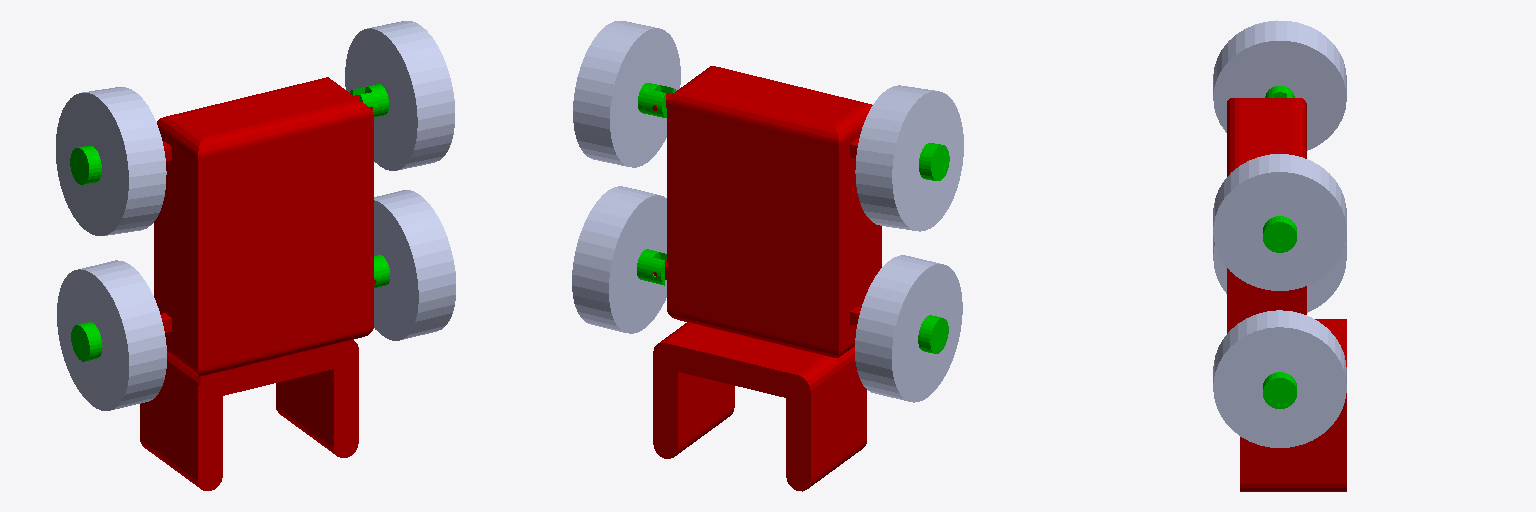
robot.urdf — RobotModel3:
<?xml version="1.0" encoding="utf-8"?>
<!-- This URDF was automatically created by SolidWorks to URDF Exporter! Originally created by [author] ([email redacted]) 
     Commit Version: 1.6.0-4-g7f85cfe  Build Version: 1.6.7995.38578
     For more information, please see http://wiki.ros.org/sw_urdf_exporter -->
<robot
  name="RobotModel3">
  <link
    name="base_link">
    <inertial>
      <origin
        xyz="-0.0046437 -0.0878 -0.0086142"
        rpy="0 0 0" />
      <mass
        value="0.24034" />
      <inertia
        ixx="0.00014847"
        ixy="-3.2844E-21"
        ixz="5.9288E-10"
        iyy="0.00023298"
        iyz="1.2393E-06"
        izz="0.00012686" />
    </inertial>
    <visual>
      <origin
        xyz="0 0 0"
        rpy="0 0 0" />
      <geometry>
        <mesh
          filename="package://RobotModel3/meshes/base_link.STL" />
      </geometry>
      <material
        name="">
        <color
          rgba="0.79216 0 0 1" />
      </material>
    </visual>
    <collision>
      <origin
        xyz="0 0 0"
        rpy="0 0 0" />
      <geometry>
        <mesh
          filename="package://RobotModel3/meshes/base_link.STL" />
      </geometry>
    </collision>
  </link>
  <link
    name="front_right_axis">
    <inertial>
      <origin
        xyz="6.9855E-09 0.012857 9.7028E-10"
        rpy="0 0 0" />
      <mass
        value="0.0027556" />
      <inertia
        ixx="2.1023E-07"
        ixy="-2.8117E-13"
        ixz="-1.3895E-15"
        iyy="4.6607E-08"
        iyz="-3.8723E-14"
        izz="2.0857E-07" />
    </inertial>
    <visual>
      <origin
        xyz="0 0 0"
        rpy="0 0 0" />
      <geometry>
        <mesh
          filename="package://RobotModel3/meshes/front_right_axis.STL" />
      </geometry>
      <material
        name="">
        <color
          rgba="0 0.81961 0 1" />
      </material>
    </visual>
    <collision>
      <origin
        xyz="0 0 0"
        rpy="0 0 0" />
      <geometry>
        <mesh
          filename="package://RobotModel3/meshes/front_right_axis.STL" />
      </geometry>
    </collision>
  </link>
  <joint
    name="front_right_axis_joint"
    type="revolute">
    <origin
      xyz="-0.074639 -0.085 -0.0251"
      rpy="-1.5708 1.5657 -3.1416" />
    <parent
      link="base_link" />
    <child
      link="front_right_axis" />
    <axis
      xyz="0 0 1" />
    <limit
      lower="-30"
      upper="30"
      effort="0"
      velocity="0" />
  </joint>
  <link
    name="front_right_wheel">
    <inertial>
      <origin
        xyz="-2.7756E-17 3.4694E-17 0.0075"
        rpy="0 0 0" />
      <mass
        value="0.028027" />
      <inertia
        ixx="5.1167E-06"
        ixy="-4.2352E-22"
        ixz="-6.2865E-22"
        iyy="5.1167E-06"
        iyz="6.8463E-22"
        izz="9.1823E-06" />
    </inertial>
    <visual>
      <origin
        xyz="0 0 0"
        rpy="0 0 0" />
      <geometry>
        <mesh
          filename="package://RobotModel3/meshes/front_right_wheel.STL" />
      </geometry>
      <material
        name="">
        <color
          rgba="0.79216 0.81961 0.93333 1" />
      </material>
    </visual>
    <collision>
      <origin
        xyz="0 0 0"
        rpy="0 0 0" />
      <geometry>
        <mesh
          filename="package://RobotModel3/meshes/front_right_wheel.STL" />
      </geometry>
    </collision>
  </link>
  <joint
    name="front_right_wheel_joint"
    type="continuous">
    <origin
      xyz="0 0.0200000000000002 0"
      rpy="-1.5707963267949 0.957928750927918 3.14159265358979" />
    <parent
      link="front_right_axis" />
    <child
      link="front_right_wheel" />
    <axis
      xyz="0 0 -1" />
  </joint>
  <link
    name="front_left_axis">
    <inertial>
      <origin
        xyz="7.001E-09 0.012857 9.6898E-10"
        rpy="0 0 0" />
      <mass
        value="0.0027556" />
      <inertia
        ixx="2.1023E-07"
        ixy="-2.8153E-13"
        ixz="-1.4543E-15"
        iyy="4.6607E-08"
        iyz="-3.8687E-14"
        izz="2.0857E-07" />
    </inertial>
    <visual>
      <origin
        xyz="0 0 0"
        rpy="0 0 0" />
      <geometry>
        <mesh
          filename="package://RobotModel3/meshes/front_left_axis.STL" />
      </geometry>
      <material
        name="">
        <color
          rgba="0 0.81961 0 1" />
      </material>
    </visual>
    <collision>
      <origin
        xyz="0 0 0"
        rpy="0 0 0" />
      <geometry>
        <mesh
          filename="package://RobotModel3/meshes/front_left_axis.STL" />
      </geometry>
    </collision>
  </link>
  <joint
    name="front_left_axis_joint"
    type="revolute">
    <origin
      xyz="0.06536 -0.085 -0.025237"
      rpy="1.5708 -1.5708 0" />
    <parent
      link="base_link" />
    <child
      link="front_left_axis" />
    <axis
      xyz="0 0 1" />
    <limit
      lower="-30"
      upper="30"
      effort="0"
      velocity="0" />
  </joint>
  <link
    name="front_left_wheel">
    <inertial>
      <origin
        xyz="1.3878E-17 3.4694E-18 -0.0075"
        rpy="0 0 0" />
      <mass
        value="0.028027" />
      <inertia
        ixx="5.1167E-06"
        ixy="4.2352E-22"
        ixz="1.1346E-22"
        iyy="5.1167E-06"
        iyz="6.1968E-22"
        izz="9.1823E-06" />
    </inertial>
    <visual>
      <origin
        xyz="0 0 0"
        rpy="0 0 0" />
      <geometry>
        <mesh
          filename="package://RobotModel3/meshes/front_left_wheel.STL" />
      </geometry>
      <material
        name="">
        <color
          rgba="0.79216 0.81961 0.93333 1" />
      </material>
    </visual>
    <collision>
      <origin
        xyz="0 0 0"
        rpy="0 0 0" />
      <geometry>
        <mesh
          filename="package://RobotModel3/meshes/front_left_wheel.STL" />
      </geometry>
    </collision>
  </link>
  <joint
    name="front_left_wheel_joint"
    type="continuous">
    <origin
      xyz="0 0.00499999999999998 0"
      rpy="1.5707963267949 1.35583851733874 0" />
    <parent
      link="front_left_axis" />
    <child
      link="front_left_wheel" />
    <axis
      xyz="0 0 1" />
  </joint>
  <link
    name="back_right_axis">
    <inertial>
      <origin
        xyz="0.00017115 0.012858 1.0002E-09"
        rpy="0 0 0" />
      <mass
        value="0.0027556" />
      <inertia
        ixx="2.102E-07"
        ixy="1.9119E-09"
        ixz="-2.1194E-16"
        iyy="4.6629E-08"
        iyz="-3.9661E-14"
        izz="2.0857E-07" />
    </inertial>
    <visual>
      <origin
        xyz="0 0 0"
        rpy="0 0 0" />
      <geometry>
        <mesh
          filename="package://RobotModel3/meshes/back_right_axis.STL" />
      </geometry>
      <material
        name="">
        <color
          rgba="0 0.81961 0 1" />
      </material>
    </visual>
    <collision>
      <origin
        xyz="0 0 0"
        rpy="0 0 0" />
      <geometry>
        <mesh
          filename="package://RobotModel3/meshes/back_right_axis.STL" />
      </geometry>
    </collision>
  </link>
  <joint
    name="back_right_axis_joint"
    type="revolute">
    <origin
      xyz="-0.074929 -0.085 0.042531"
      rpy="-1.5708 1.4699 -3.1416" />
    <parent
      link="base_link" />
    <child
      link="back_right_axis" />
    <axis
      xyz="0 0 1" />
    <limit
      lower="-30"
      upper="30"
      effort="0"
      velocity="0" />
  </joint>
  <link
    name="back_right_wheel">
    <inertial>
      <origin
        xyz="0.000150077760935563 -9.0618027228595E-05 0.0074989635381281"
        rpy="0 0 0" />
      <mass
        value="0.0280269334608379" />
      <inertia
        ixx="5.11707402761303E-06"
        ixy="-2.45742070131501E-10"
        ixz="4.0674884766407E-08"
        iyy="5.1168154207667E-06"
        iyz="-2.45597868218773E-08"
        izz="9.18176870661576E-06" />
    </inertial>
    <visual>
      <origin
        xyz="0 0 0"
        rpy="0 0 0" />
      <geometry>
        <mesh
          filename="package://RobotModel3/meshes/back_right_wheel.STL" />
      </geometry>
      <material
        name="">
        <color
          rgba="0.792156862745098 0.819607843137255 0.933333333333333 1" />
      </material>
    </visual>
    <collision>
      <origin
        xyz="0 0 0"
        rpy="0 0 0" />
      <geometry>
        <mesh
          filename="package://RobotModel3/meshes/back_right_wheel.STL" />
      </geometry>
    </collision>
  </link>
  <joint
    name="back_right_wheel_joint"
    type="continuous">
    <origin
      xyz="0 0.02 0"
      rpy="1.5707963267949 -0.543214184329357 0" />
    <parent
      link="back_right_axis" />
    <child
      link="back_right_wheel" />
    <axis
      xyz="-0.0100051880403523 0.00604120421717356 -0.999931697699339" />
  </joint>
  <link
    name="back_left_axis">
    <inertial>
      <origin
        xyz="-0.00018146 0.012858 9.7816E-10"
        rpy="0 0 0" />
      <mass
        value="0.0027556" />
      <inertia
        ixx="2.102E-07"
        ixy="-2.0278E-09"
        ixz="-1.5293E-15"
        iyy="4.6632E-08"
        iyz="-3.8932E-14"
        izz="2.0857E-07" />
    </inertial>
    <visual>
      <origin
        xyz="0 0 0"
        rpy="0 0 0" />
      <geometry>
        <mesh
          filename="package://RobotModel3/meshes/back_left_axis.STL" />
      </geometry>
      <material
        name="">
        <color
          rgba="0 0.81961 0 1" />
      </material>
    </visual>
    <collision>
      <origin
        xyz="0 0 0"
        rpy="0 0 0" />
      <geometry>
        <mesh
          filename="package://RobotModel3/meshes/back_left_axis.STL" />
      </geometry>
    </collision>
  </link>
  <joint
    name="back_left_axis_joint"
    type="revolute">
    <origin
      xyz="0.064926 -0.085 0.039232"
      rpy="1.5708 -1.5515 0" />
    <parent
      link="base_link" />
    <child
      link="back_left_axis" />
    <axis
      xyz="0 0 1" />
    <limit
      lower="-30"
      upper="30"
      effort="0"
      velocity="0" />
  </joint>
  <link
    name="back_left_wheel">
    <inertial>
      <origin
        xyz="1.63226960582935E-05 -0.000185175114039732 0.0074988607287341"
        rpy="0 0 0" />
      <mass
        value="0.028026933460838" />
      <inertia
        ixx="5.11667185422754E-06"
        ixy="-5.46163119677596E-11"
        ixz="4.42382398729364E-09"
        iyy="5.1172866423531E-06"
        iyz="-5.01866914884249E-08"
        izz="9.18169965841486E-06" />
    </inertial>
    <visual>
      <origin
        xyz="0 0 0"
        rpy="0 0 0" />
      <geometry>
        <mesh
          filename="package://RobotModel3/meshes/back_left_wheel.STL" />
      </geometry>
      <material
        name="">
        <color
          rgba="0.792156862745098 0.819607843137255 0.933333333333333 1" />
      </material>
    </visual>
    <collision>
      <origin
        xyz="0 0 0"
        rpy="0 0 0" />
      <geometry>
        <mesh
          filename="package://RobotModel3/meshes/back_left_wheel.STL" />
      </geometry>
    </collision>
  </link>
  <joint
    name="back_left_wheel_joint"
    type="continuous">
    <origin
      xyz="0 0.02 0"
      rpy="-1.5707963267949 1.48287621614252 -3.14159265358979" />
    <parent
      link="back_left_axis" />
    <child
      link="back_left_wheel" />
    <axis
      xyz="-0.00108817927846046 0.0123450023981657 -0.999923205442122" />
  </joint>
</robot>

--- Render facts (derived) ---
The picture shows the robot from 3 angles, left to right: view 1: azimuth 30°, elevation 25°; view 2: azimuth 150°, elevation 25°; view 3: azimuth 270°, elevation 25°; orthographic projection.
Robot: RobotModel3 — 9 links, 8 joints (4 revolute, 4 continuous); root link base_link; default pose: every joint at zero.
Links seen in each view (by area): view 1: base_link, back_right_wheel, front_right_wheel, back_left_wheel, front_left_wheel, back_right_axis, front_right_axis, back_left_axis; view 2: base_link, back_right_wheel, front_right_wheel, back_left_wheel, front_left_wheel, back_right_axis, front_right_axis, back_left_axis, front_left_axis; view 3: front_left_wheel, back_left_wheel, base_link, back_right_wheel, front_right_wheel, front_left_axis, back_left_axis.
Boxes of the visible links, box(x1,y1,x2,y2) form: base_link: box(140, 77, 376, 490); back_right_wheel: box(56, 87, 166, 235); front_right_wheel: box(57, 260, 166, 410); back_left_wheel: box(345, 21, 454, 170); front_left_wheel: box(374, 190, 455, 340); back_right_axis: box(70, 146, 101, 184); front_right_axis: box(71, 322, 102, 361); back_left_axis: box(350, 84, 388, 117); base_link: box(652, 66, 881, 491); back_right_wheel: box(855, 85, 963, 231); front_right_wheel: box(855, 255, 962, 402); back_left_wheel: box(573, 21, 680, 167); front_left_wheel: box(572, 186, 666, 333); back_right_axis: box(919, 143, 949, 180); front_right_axis: box(918, 315, 948, 353); back_left_axis: box(638, 83, 675, 117); front_left_axis: box(637, 249, 666, 285); front_left_wheel: box(1213, 310, 1346, 447); back_left_wheel: box(1213, 154, 1346, 290); base_link: box(1227, 98, 1346, 491); back_right_wheel: box(1213, 20, 1346, 150); front_right_wheel: box(1213, 237, 1346, 312); front_left_axis: box(1263, 372, 1296, 408); back_left_axis: box(1263, 216, 1296, 252).
Bounding box of the posed robot: 0.1409 × 0.05 × 0.1519 m (x, y, z).
9 mesh visuals loaded from 9 distinct referenced files (9 binary STL).